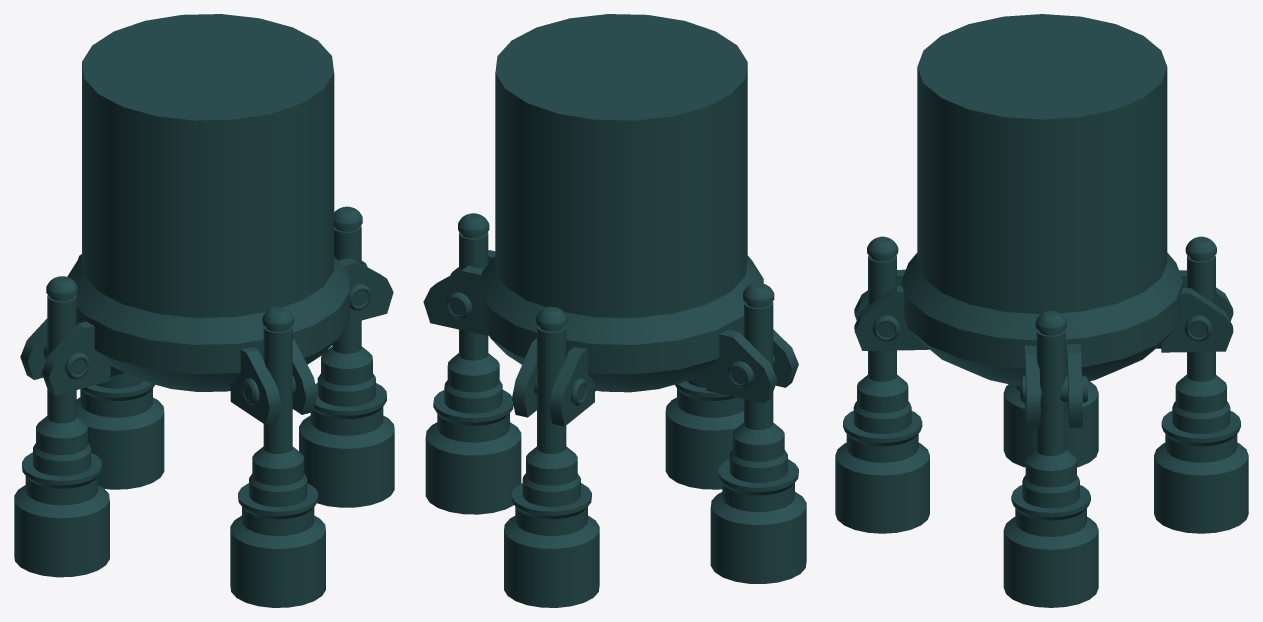
File: Building 2 color.fbx
The picture shows the model from 3 angles, left to right: view 1: azimuth 30°, elevation 25°; view 2: azimuth 150°, elevation 25°; view 3: azimuth 270°, elevation 25°; orthographic projection.
Visible parts, largest first — view 1: group28_pasted__pCube3; view 2: group28_pasted__pCube3; view 3: group28_pasted__pCube3.
Part boxes in pixels (x1,y1,x2,y2): group28_pasted__pCube3: (14, 14, 394, 607); group28_pasted__pCube3: (423, 14, 806, 607); group28_pasted__pCube3: (835, 14, 1248, 607).
Bounding box in the file's own units: 30.69 × 36.51 × 30.27.
